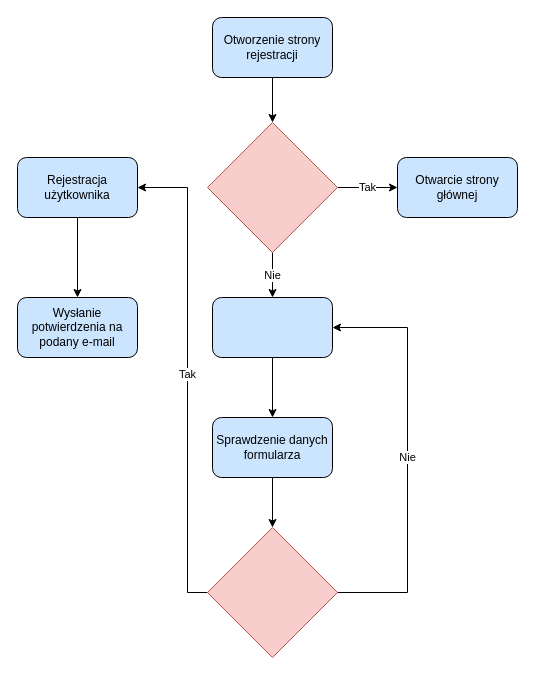
Some shapes in this 535 by 675 pixel diagram are drawn without their labels. The shapes that lost their labels are listed below. From the top down, each one's centre as x and y in pixels, then its label:
At point 272,187: "Czy użytkownik jest uwierzytelniony ?".
At point 272,327: "Wypełnienie formularza strony rejestracji".
At point 272,592: "Czy dane formularza są prawidłowe ?".
